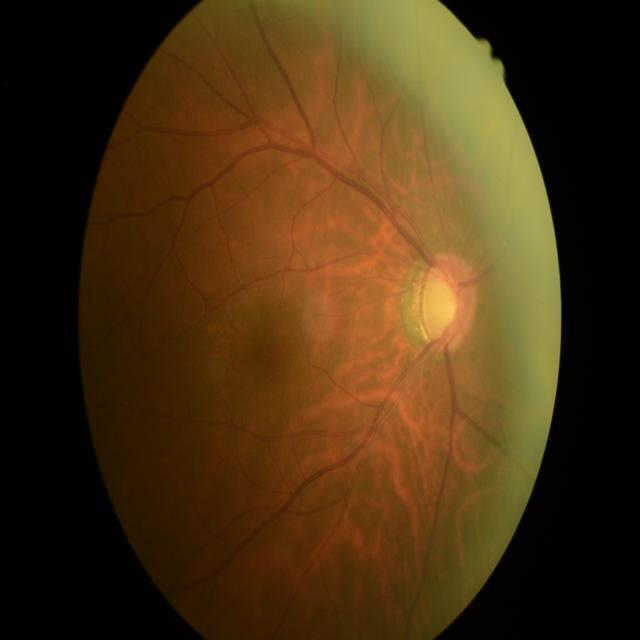cup: (422, 268, 460, 342)
disk: (421, 252, 476, 352)
